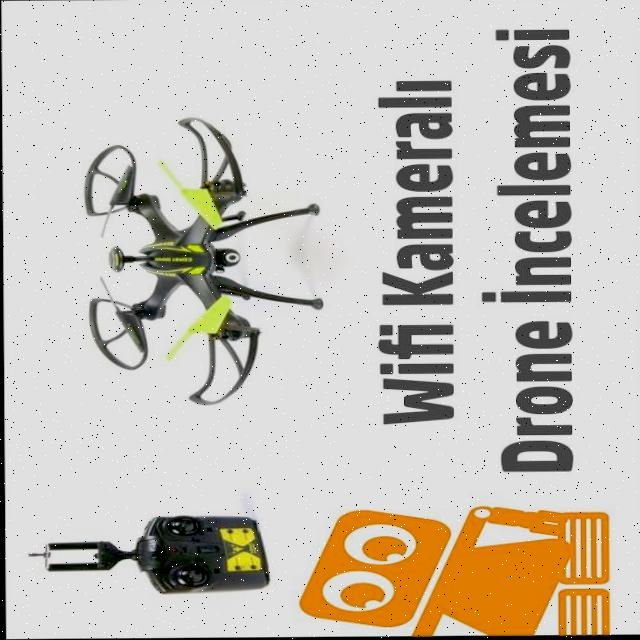drone: (62, 99, 329, 419)
